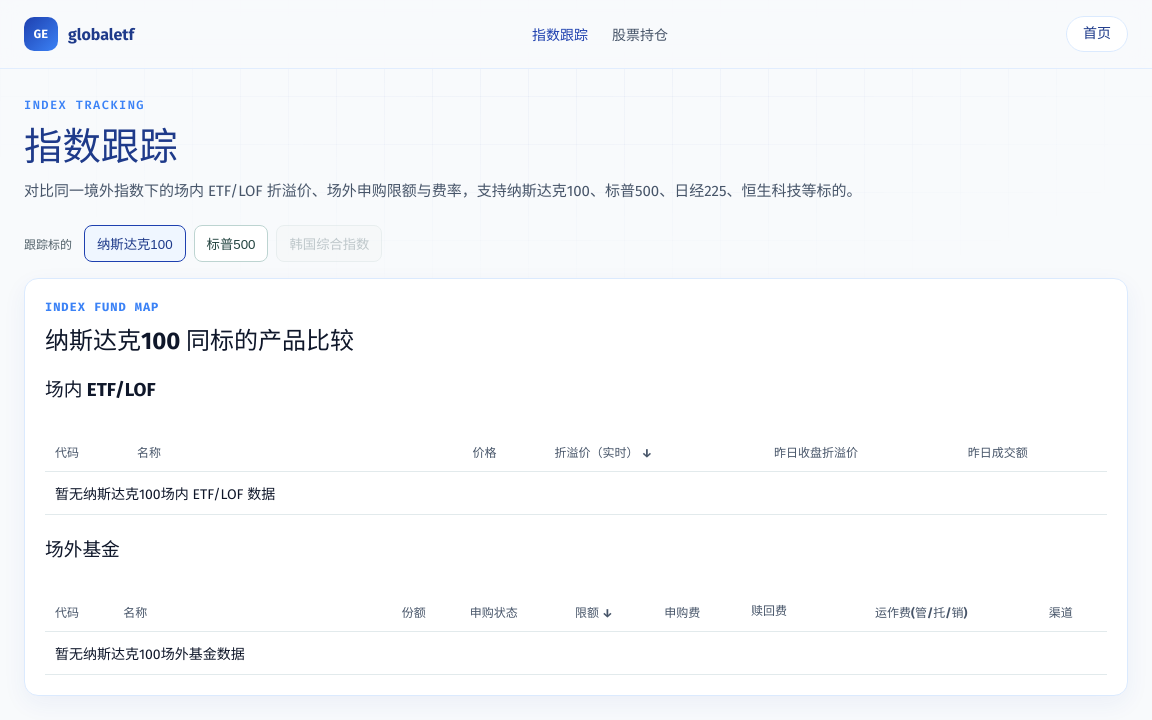
Test case: IndexPage › reloads index comparison when selecting another index target
The image size is (1152, 720).
Click the button "标普500": click(231, 243) [194,225,268,262]
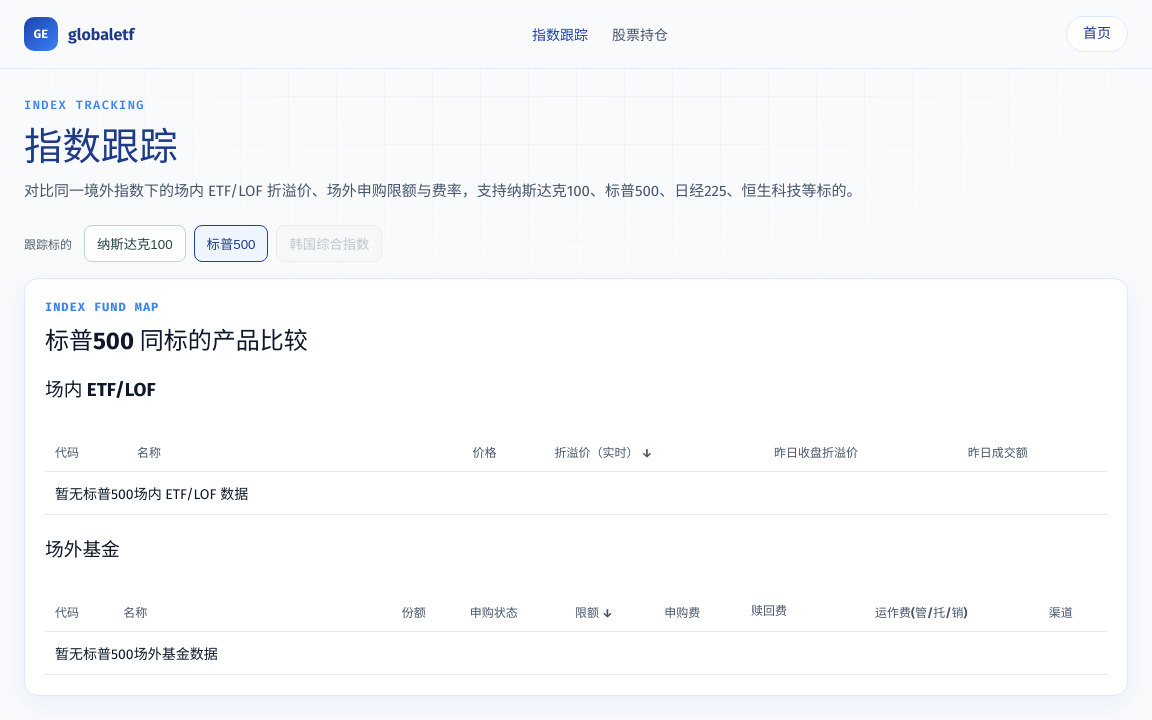
expect the heading "标普500 同标的产品比较" is shown: met, box [45,321,308,356]
